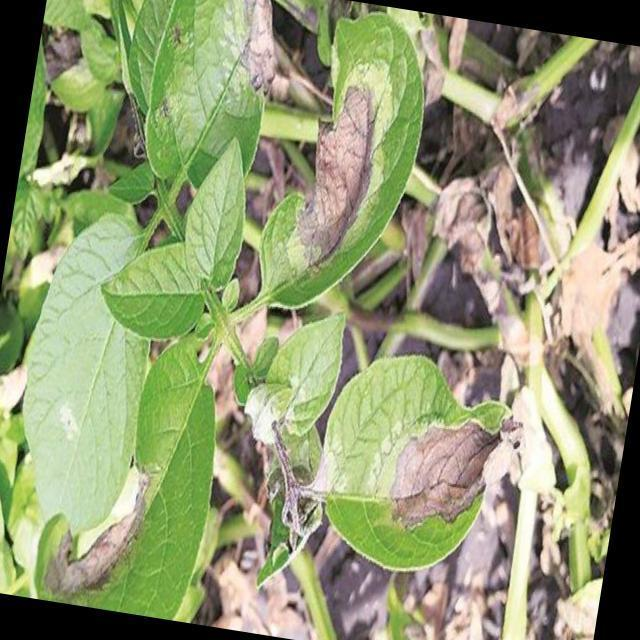Healthy Leaf: (178, 134, 257, 295), (96, 236, 210, 340)
